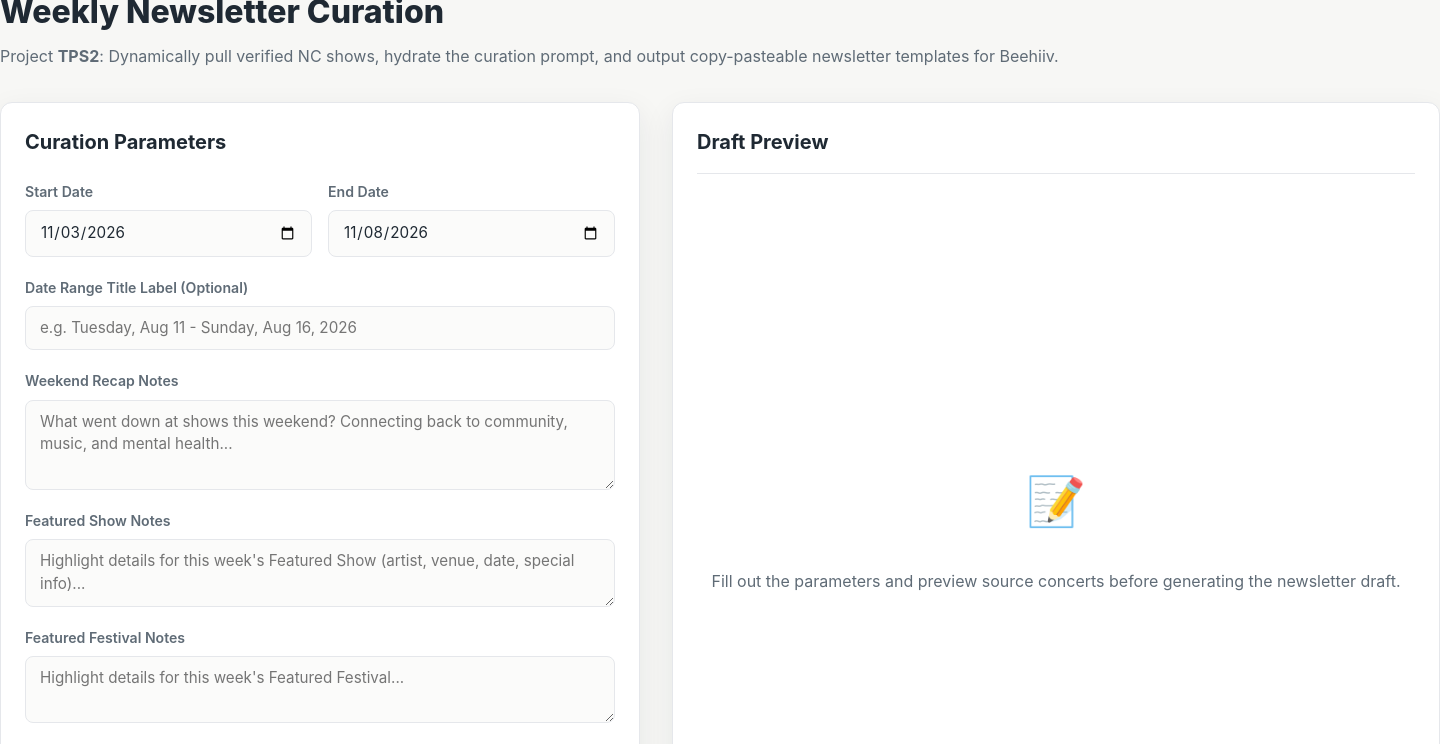
Test: AdminWeeklyPicksPage › previews source concerts without generating a newsletter draft
The width and height of the screenshot is (1440, 744).
Type "2026-09-01" into the date field with id "startDate" at (168, 233), box [25, 210, 312, 256]
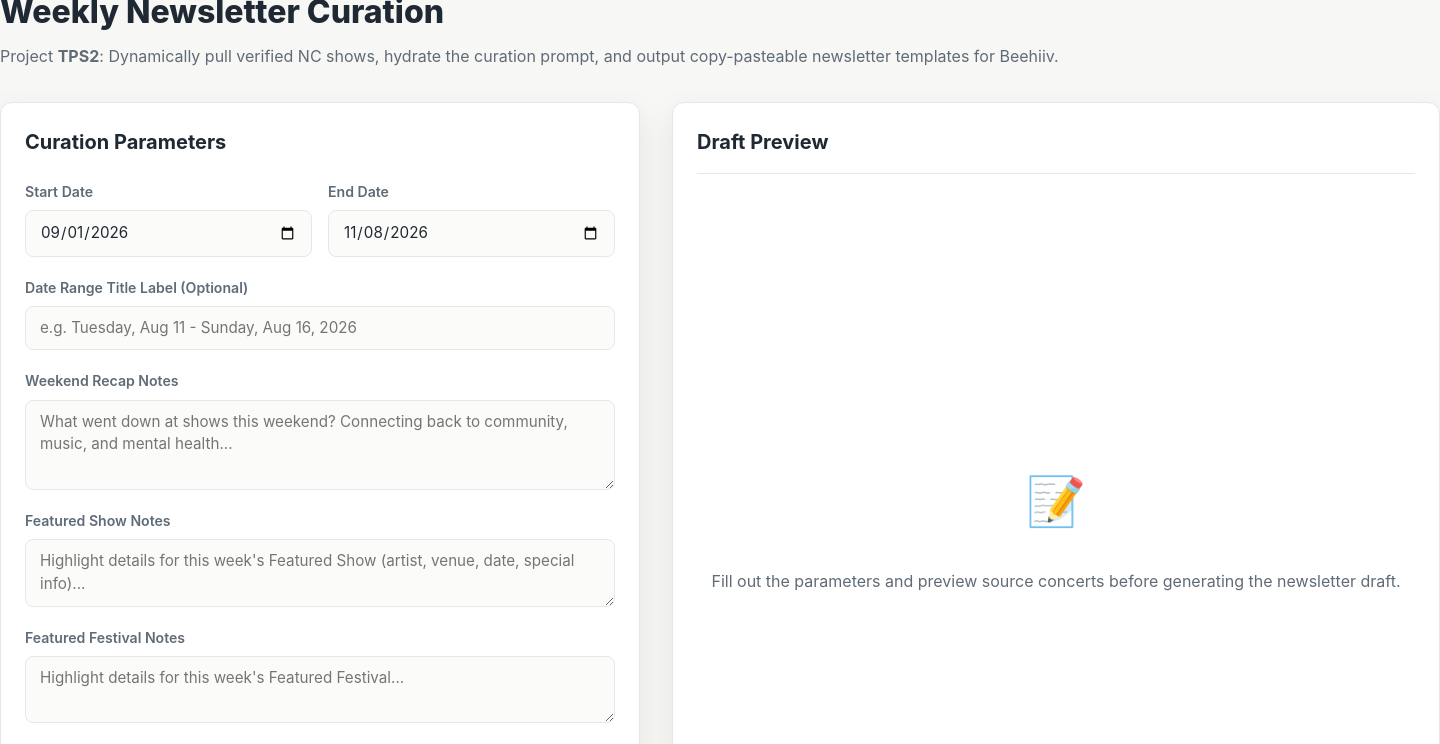
Type "2026-09-07" into the date field with id "endDate" at (472, 233), box [328, 210, 615, 256]
(page scrolled)
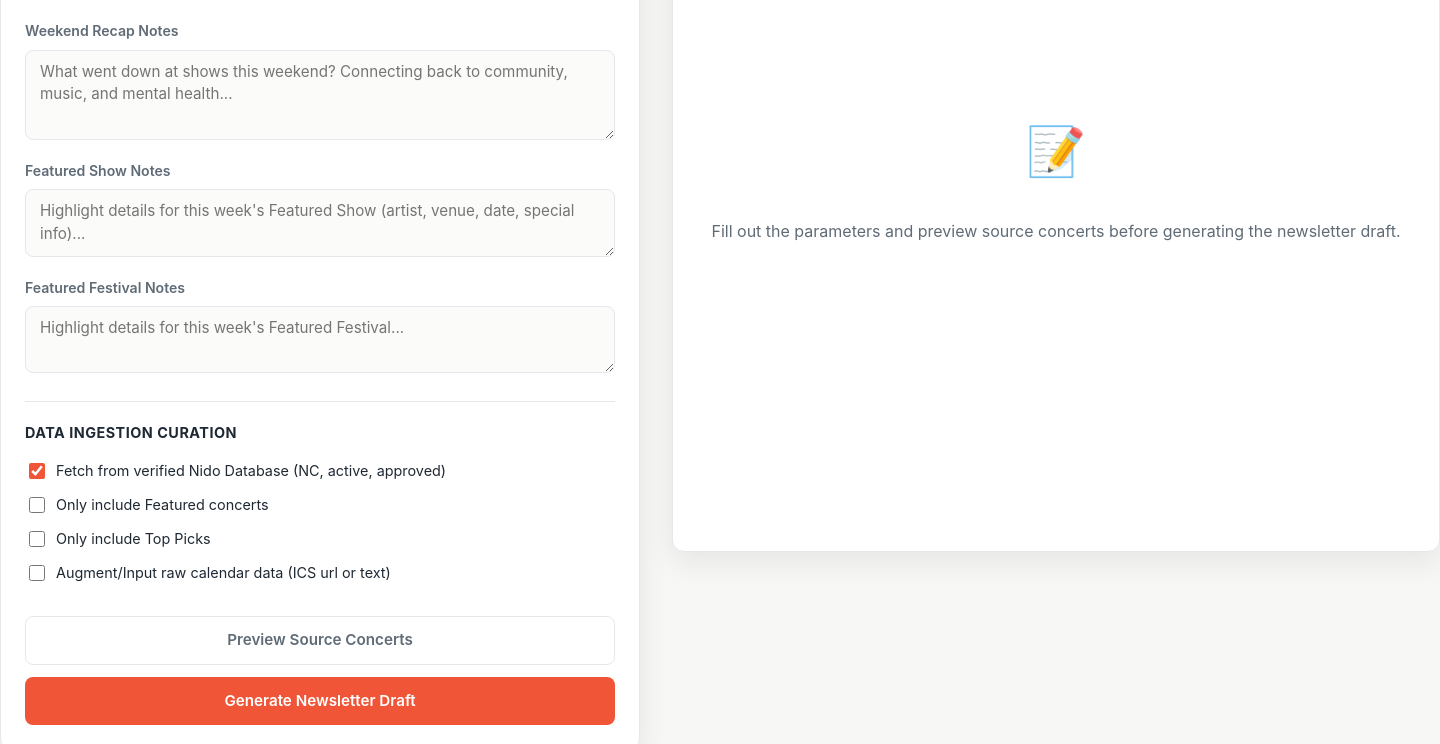
Click the button "Preview Source Concerts" at (320, 640), box [25, 616, 615, 665]
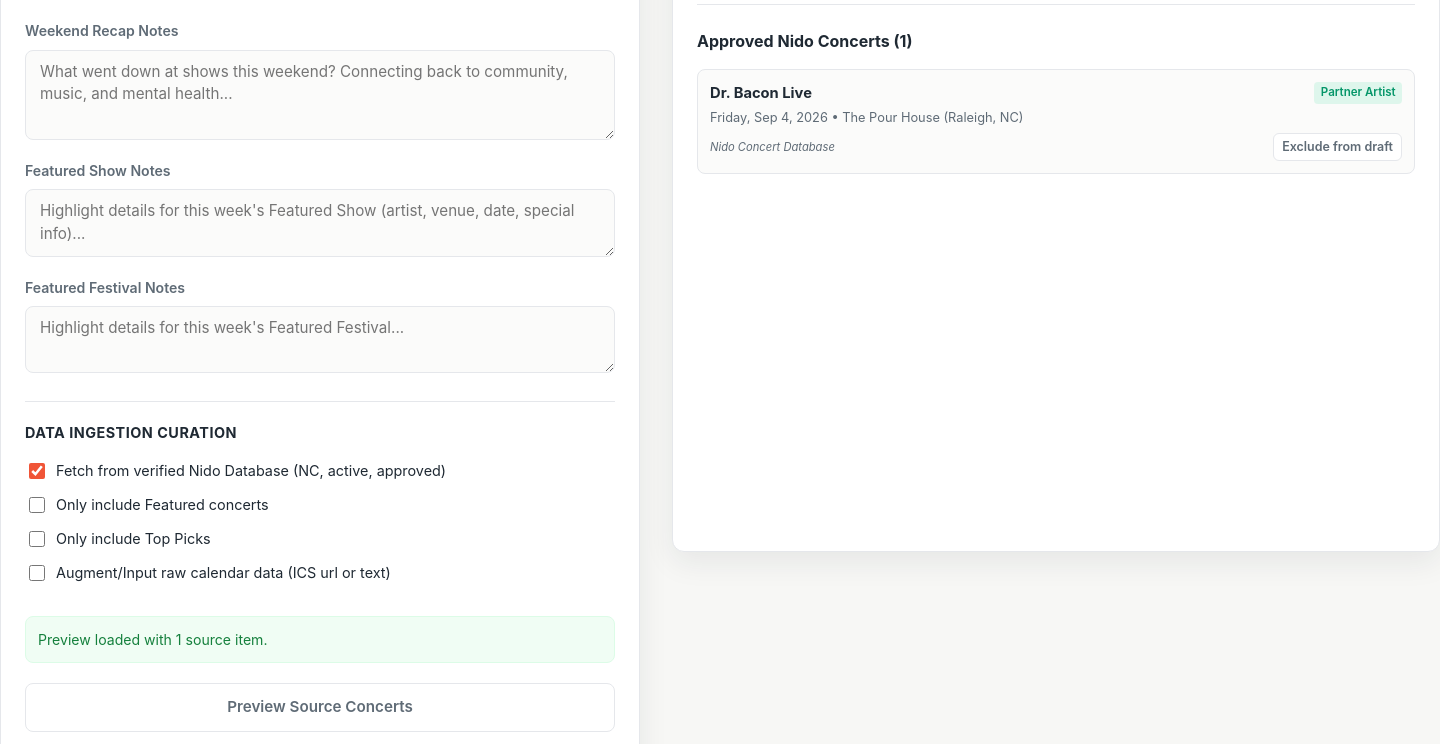
Expected: the text "1" is shown, [38, 631, 268, 648]
Expected: the text "Dr. Bacon Live" is shown, [710, 82, 812, 104]
Expected: the text "Approved Nido Concerts (1)" is shown, [697, 31, 912, 51]
